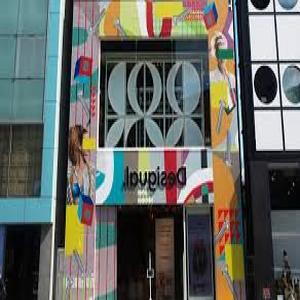desigual: (122, 166, 192, 191)
